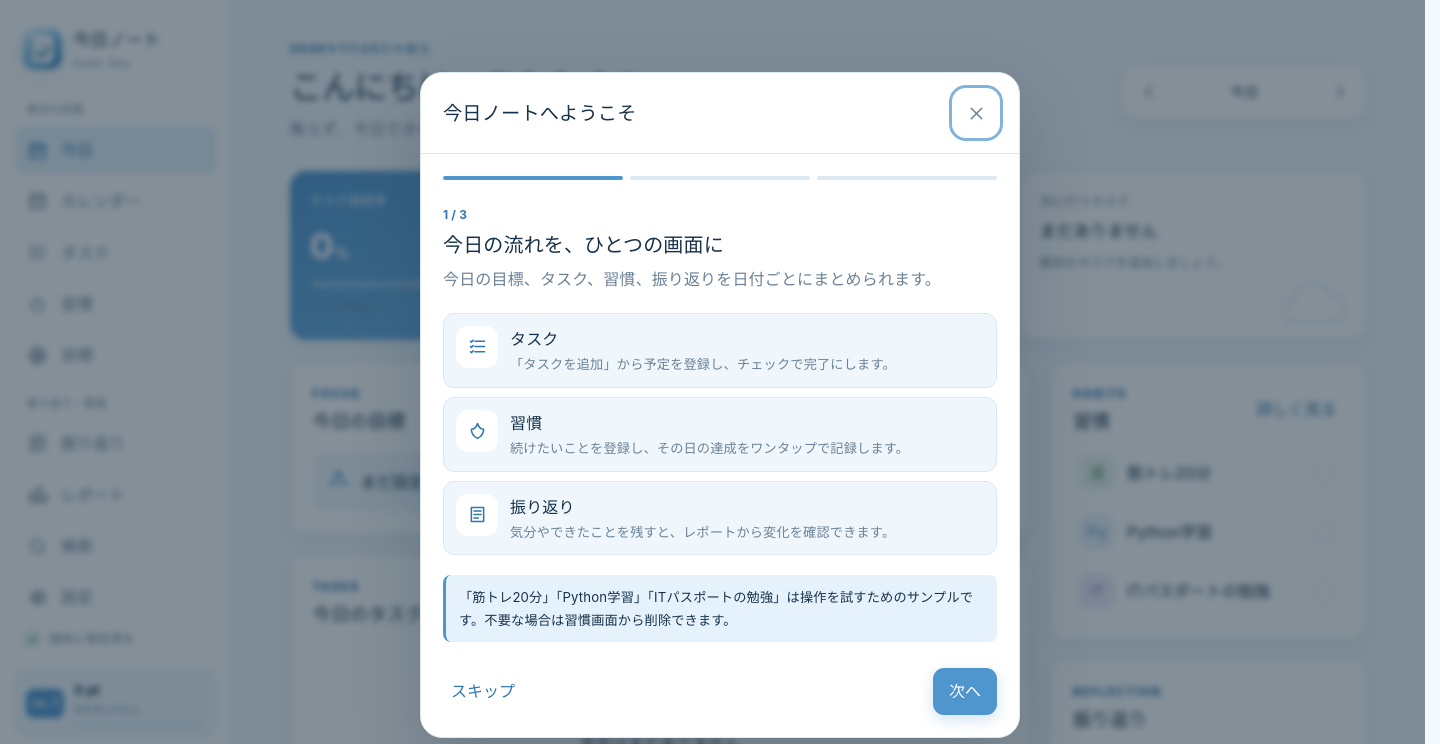
Scenario: アプリ全体の基本導線 › 初回案内を閉じて、今日からカレンダーへ移動できる
The width and height of the screenshot is (1440, 744).
Expected: the heading "今日ノートへようこそ" is shown, [443, 100, 636, 127]
Click the button "スキップ": (483, 692) [443, 672, 523, 711]
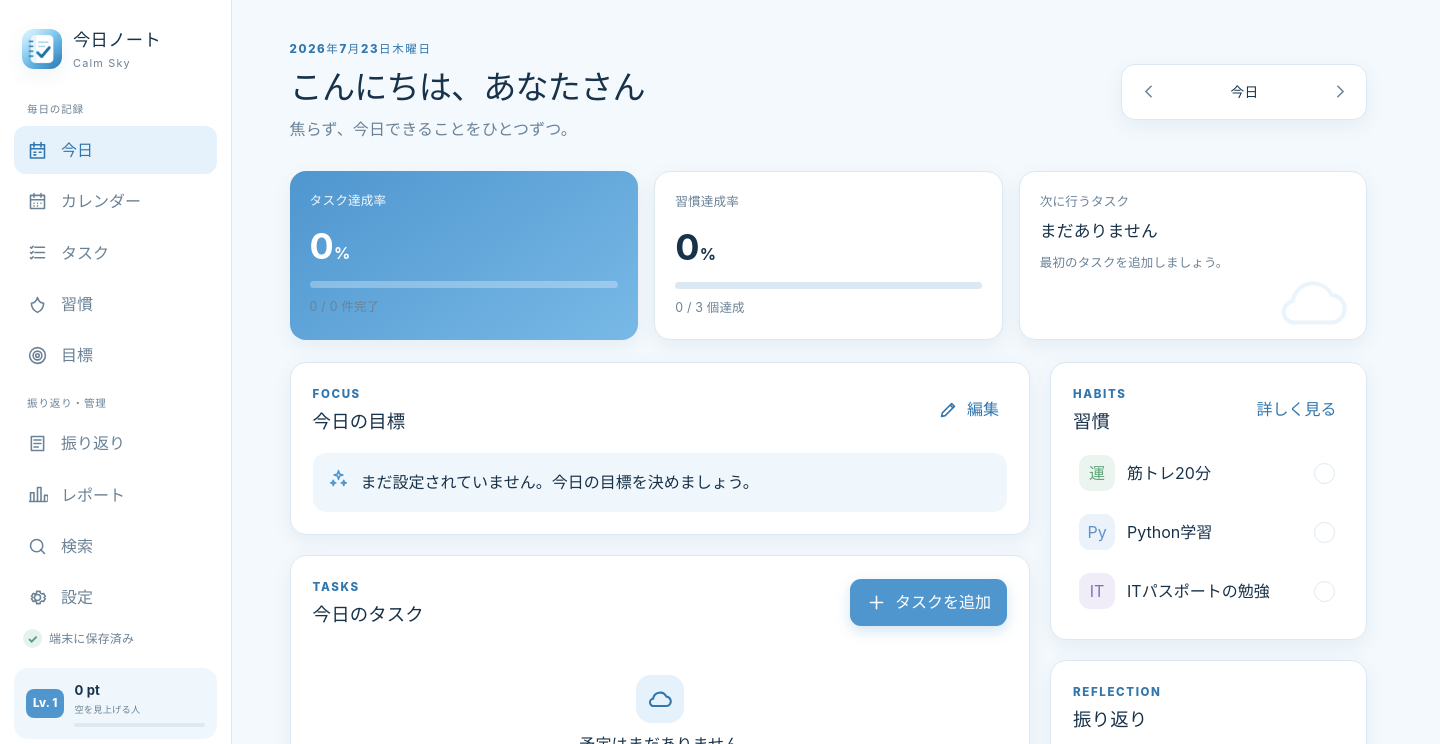
Click the button "カレンダー": (116, 202) [14, 177, 217, 226]
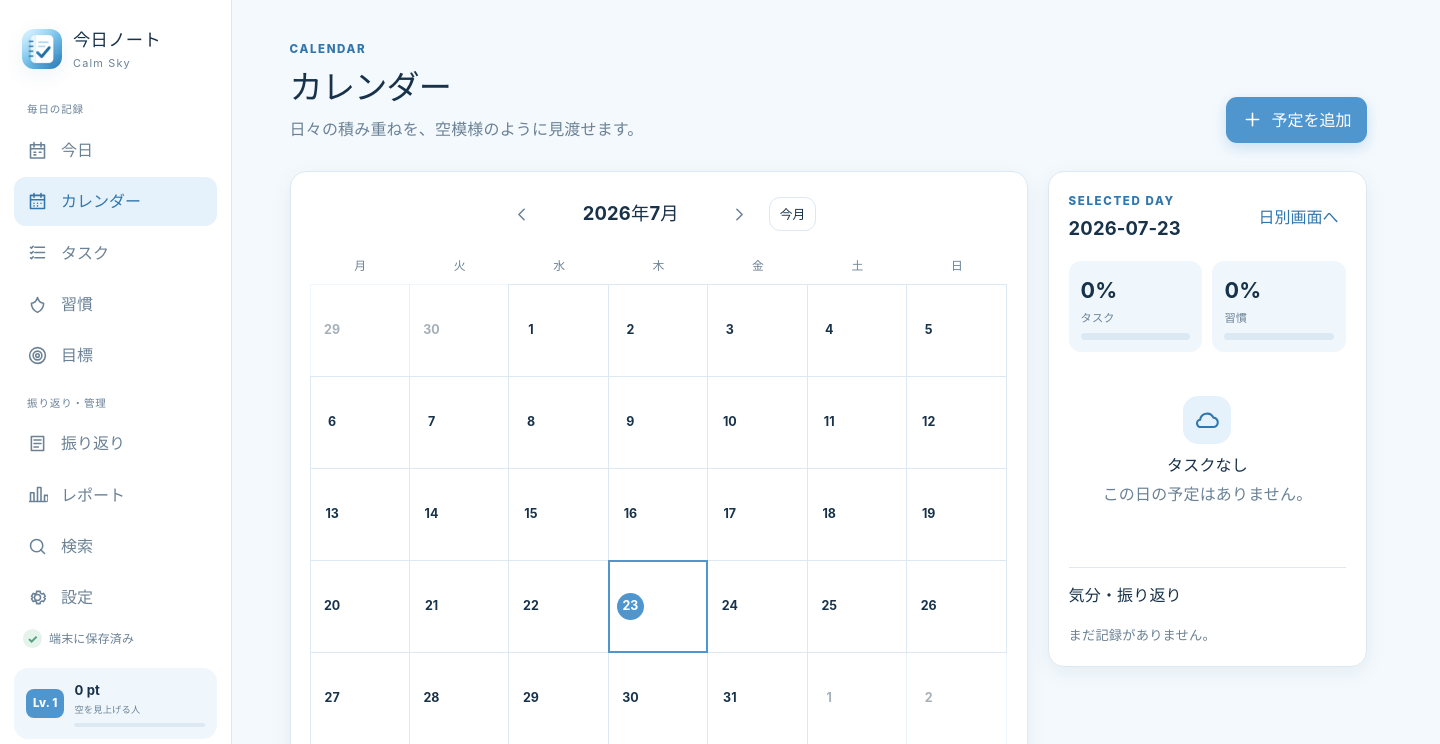
Expected: the heading "カレンダー" is shown, [290, 67, 451, 107]
